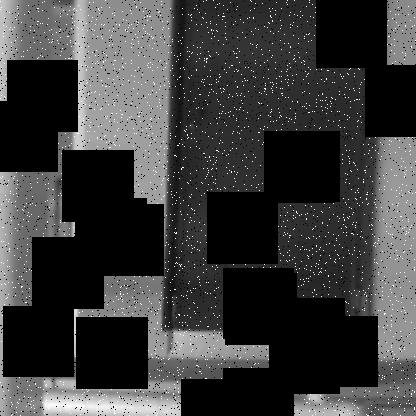Porte: (158, 1, 388, 336)
